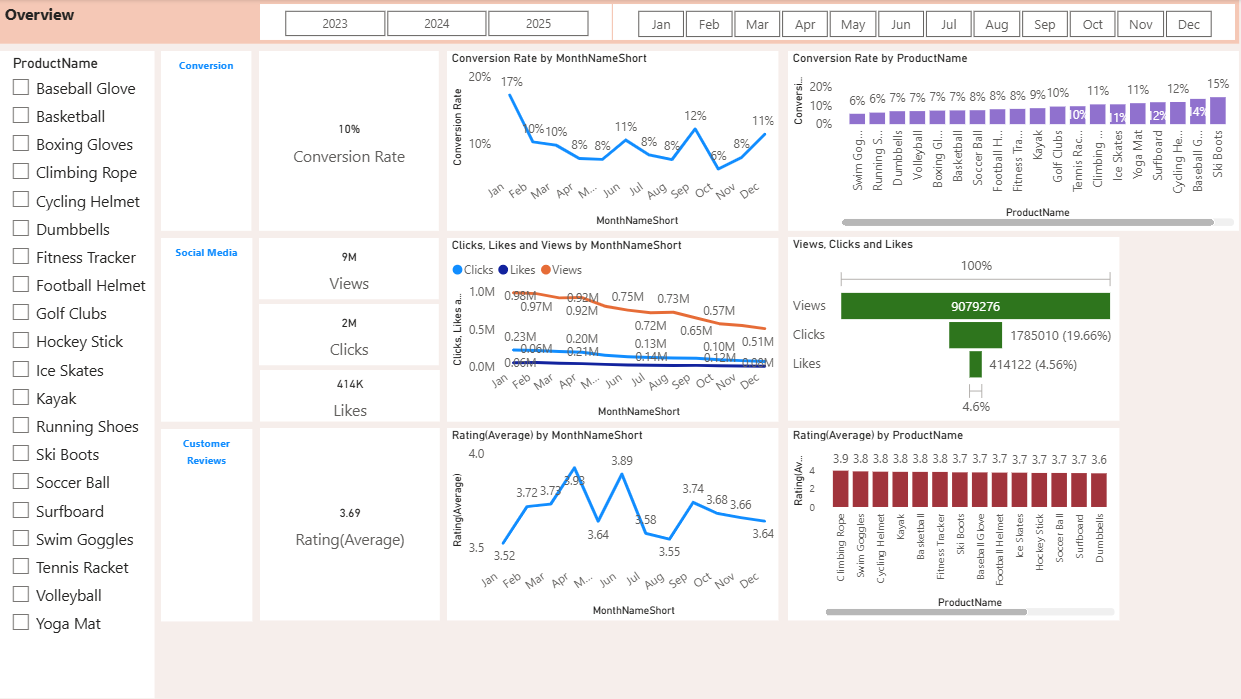

The page's visual inventory and layout, read from the dashboard file:
{"tool":"powerbi","page":{"name":"Overview","canvas":[1280,720],"ordinal":0},"visuals":[{"type":"textbox","box":[0,0,1274.6,46.5],"z":0},{"type":"slicer","fields":{"Values":["dim_products.ProductName"]},"box":[0,53.6,158.6,666.3],"z":1000},{"type":"textbox","box":[165.7,53.6,93,185.3],"z":2000},{"type":"textbox","box":[165.7,245.8,93.7,188.7],"z":3000},{"type":"textbox","box":[165.7,442,93.7,198.2],"z":4000},{"type":"card","fields":{"Values":["_Calculations.Conversion Rate"]},"box":[266.8,53.6,185.3,185.3],"z":5000},{"type":"card","fields":{"Values":["_Calculations.Clicks"]},"box":[266.8,313.7,185.3,63.1],"z":6000},{"type":"card","fields":{"Values":["_Calculations.Views"]},"box":[266.8,245.8,185.3,63.1],"z":7000},{"type":"card","fields":{"Values":["_Calculations.Likes"]},"box":[267.7,381.7,185.3,53.3],"z":8000},{"type":"card","fields":{"Values":["_Calculations.Rating(Average)"]},"box":[267.7,441.8,185.3,198.3],"z":9000},{"type":"slicer","fields":{"Values":["Calendar.Year"]},"box":[267.1,5,361.9,37.2],"z":10000},{"type":"slicer","fields":{"Values":["Calendar.MonthNameShort"]},"box":[630.8,5,640.1,37.2],"z":11000},{"type":"lineChart","fields":{"Y":["_Calculations.Conversion Rate"],"Category":["Calendar.MonthNameShort"]},"box":[459.8,53.9,341.4,185.3],"z":12000},{"type":"clusteredColumnChart","fields":{"Y":["_Calculations.Conversion Rate"],"Category":["dim_products.ProductName"]},"box":[810.5,53.3,464.1,185.3],"z":13000},{"type":"lineChart","fields":{"Category":["Calendar.MonthNameShort"],"Y":["_Calculations.Clicks","_Calculations.Likes","_Calculations.Views"]},"box":[459.8,246,341.4,189],"z":14000},{"type":"funnel","fields":{"Y":["_Calculations.Views","_Calculations.Clicks","_Calculations.Likes"]},"box":[810.5,245.4,341.4,189],"z":15000},{"type":"lineChart","fields":{"Category":["Calendar.MonthNameShort"],"Y":["_Calculations.Rating(Average)"]},"box":[459.8,441.8,341.4,198.3],"z":16000},{"type":"clusteredColumnChart","fields":{"Category":["dim_products.ProductName"],"Y":["_Calculations.Rating(Average)"]},"box":[810.5,441.8,341.4,198.3],"z":17000}]}

Visuals, with their boxes in screenshot pixels (x1, y1, x2, y2), scaled from the page's 1280x720 canvas onto the 1241x699 screenshot:
textbox: 0/0/1236/45
slicer - dim_products.ProductName: 0/52/154/698
textbox: 161/52/251/232
textbox: 161/239/251/422
textbox: 161/429/251/622
card - _Calculations.Conversion Rate: 259/52/438/232
card - _Calculations.Clicks: 259/305/438/366
card - _Calculations.Views: 259/239/438/300
card - _Calculations.Likes: 260/371/439/422
card - _Calculations.Rating(Average): 260/429/439/621
slicer - Calendar.Year: 259/5/610/41
slicer - Calendar.MonthNameShort: 612/5/1232/41
lineChart - _Calculations.Conversion Rate x Calendar.MonthNameShort: 446/52/777/232
clusteredColumnChart - _Calculations.Conversion Rate x dim_products.ProductName: 786/52/1236/232
lineChart - Calendar.MonthNameShort x _Calculations.Clicks: 446/239/777/422
funnel - _Calculations.Views x _Calculations.Clicks: 786/238/1117/422
lineChart - Calendar.MonthNameShort x _Calculations.Rating(Average): 446/429/777/621
clusteredColumnChart - dim_products.ProductName x _Calculations.Rating(Average): 786/429/1117/621
